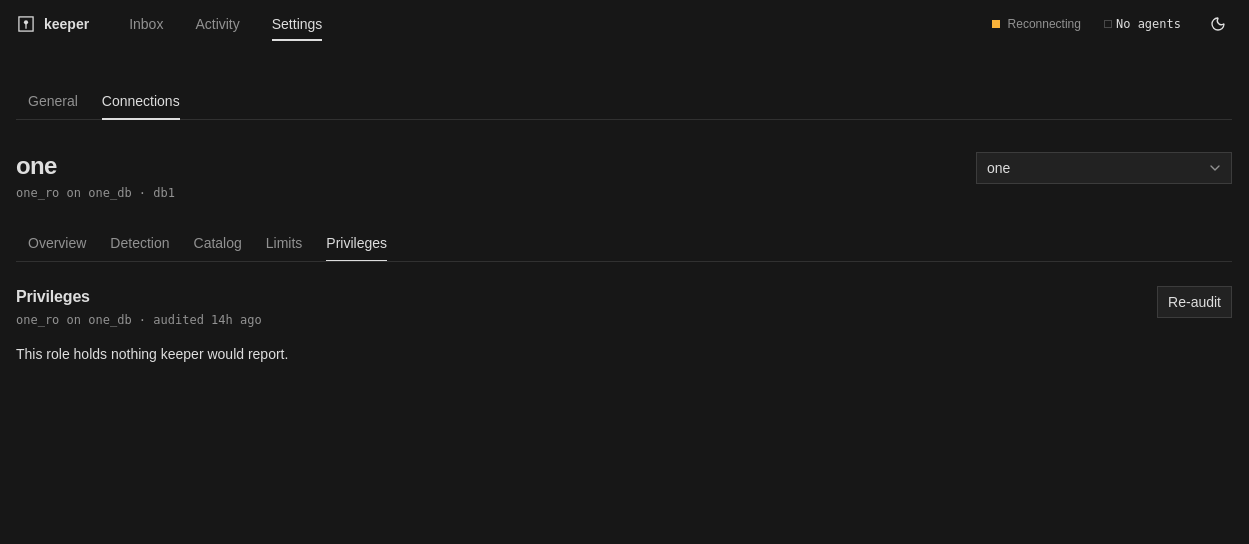
Test case: a connection's Privileges tab › PRIV-C4 Re-audit runs the audit and shows the new findings
The width and height of the screenshot is (1249, 544).
Step 1. Click the button "Re-audit" → (1195, 302), box [1157, 286, 1232, 318]
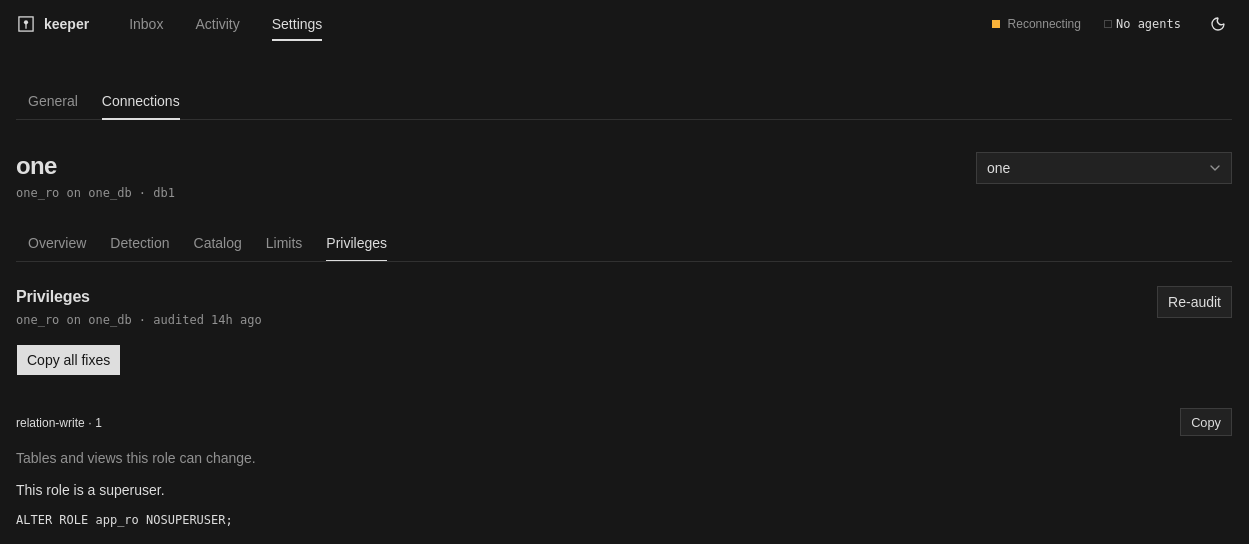
Now the list item "This role is a superuser." is shown, box [16, 482, 165, 498]
